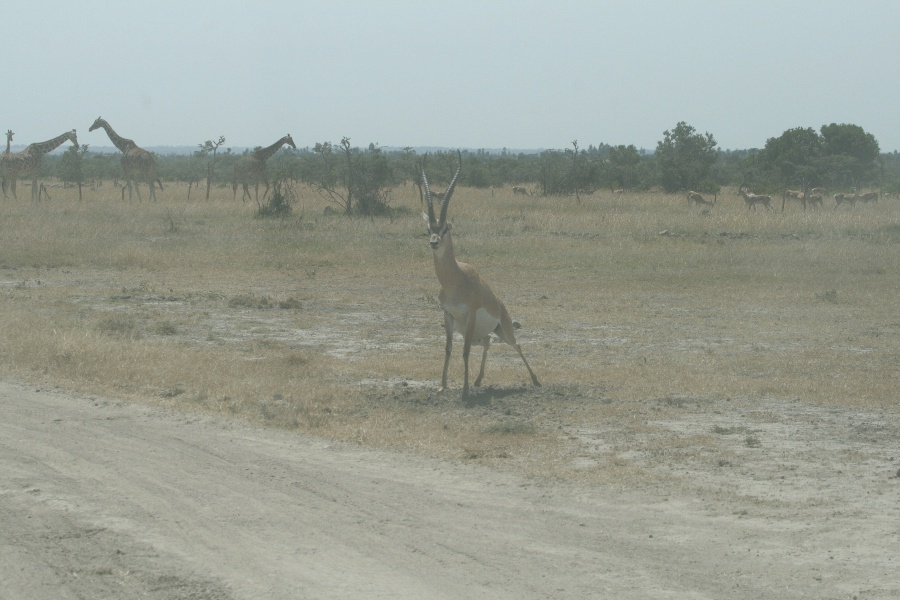giraffe: (85, 111, 171, 213), (0, 125, 86, 207), (223, 128, 302, 209)
